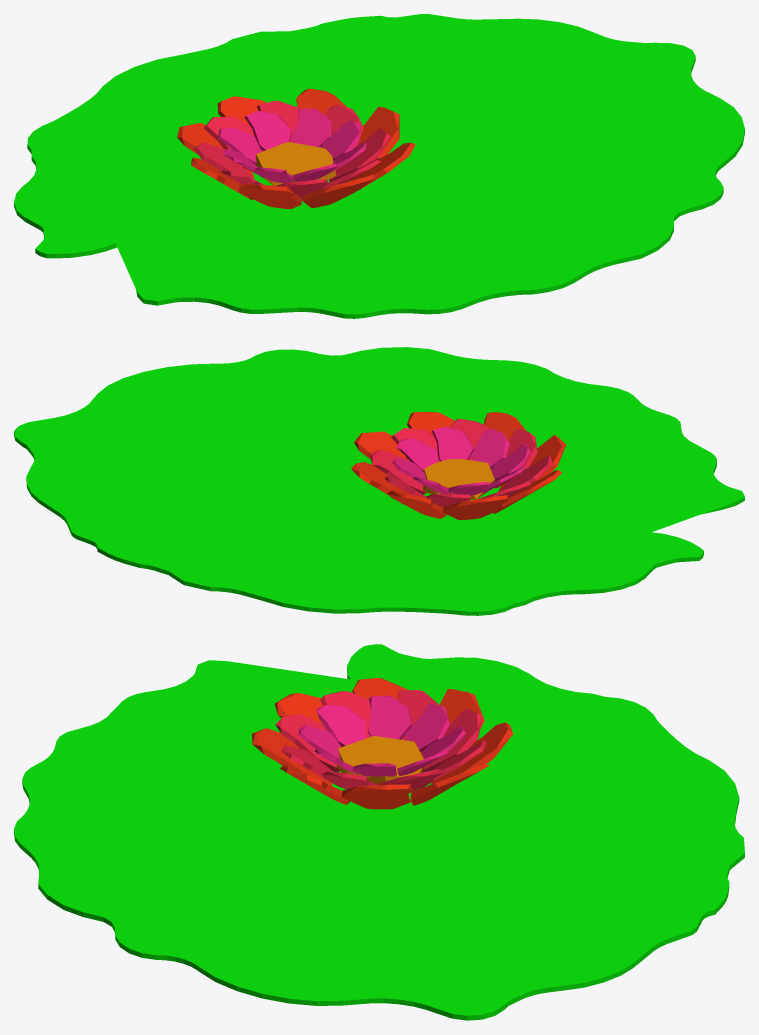
The model's file is lokvanj 1.fbx.
3 renders of one model, top to bottom at view 1: azimuth 30°, elevation 25°; view 2: azimuth 150°, elevation 25°; view 3: azimuth 270°, elevation 25°, orthographic. The views are drawn at different scales.
Parts seen in each view (by area): view 1: Cylinder.029; view 2: Cylinder.029; view 3: Cylinder.029.
Part boxes in pixels (x1,y1,x2,y2): Cylinder.029: (14, 14, 744, 318); Cylinder.029: (14, 347, 744, 615); Cylinder.029: (14, 644, 744, 1020).
Bounding box in the file's own units: 544 × 39.65 × 452.
